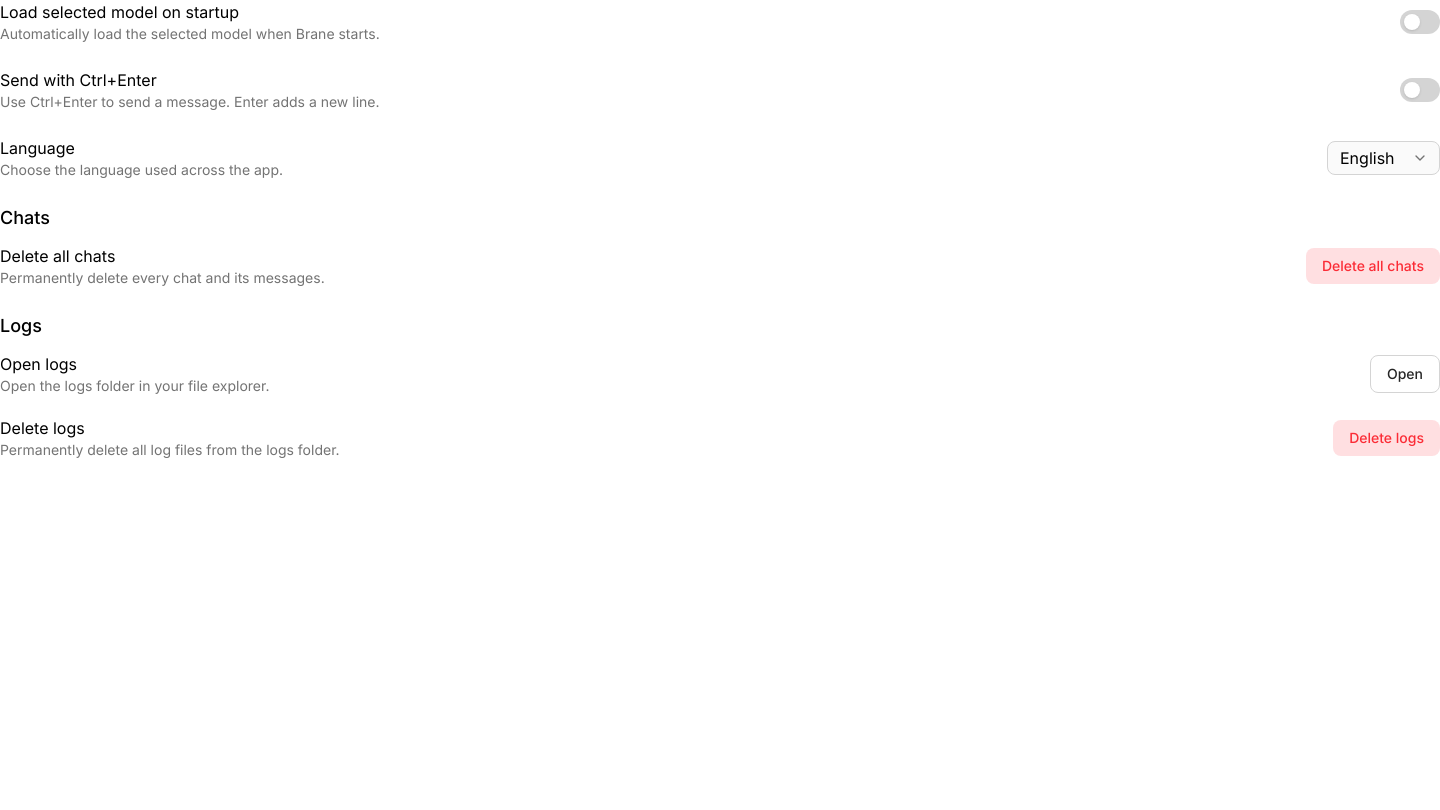
Scenario: GeneralSettings logs › deletes the logs once the deletion is confirmed
Click the button "Delete logs". click: (1387, 438)
box: [1333,420,1439,456]
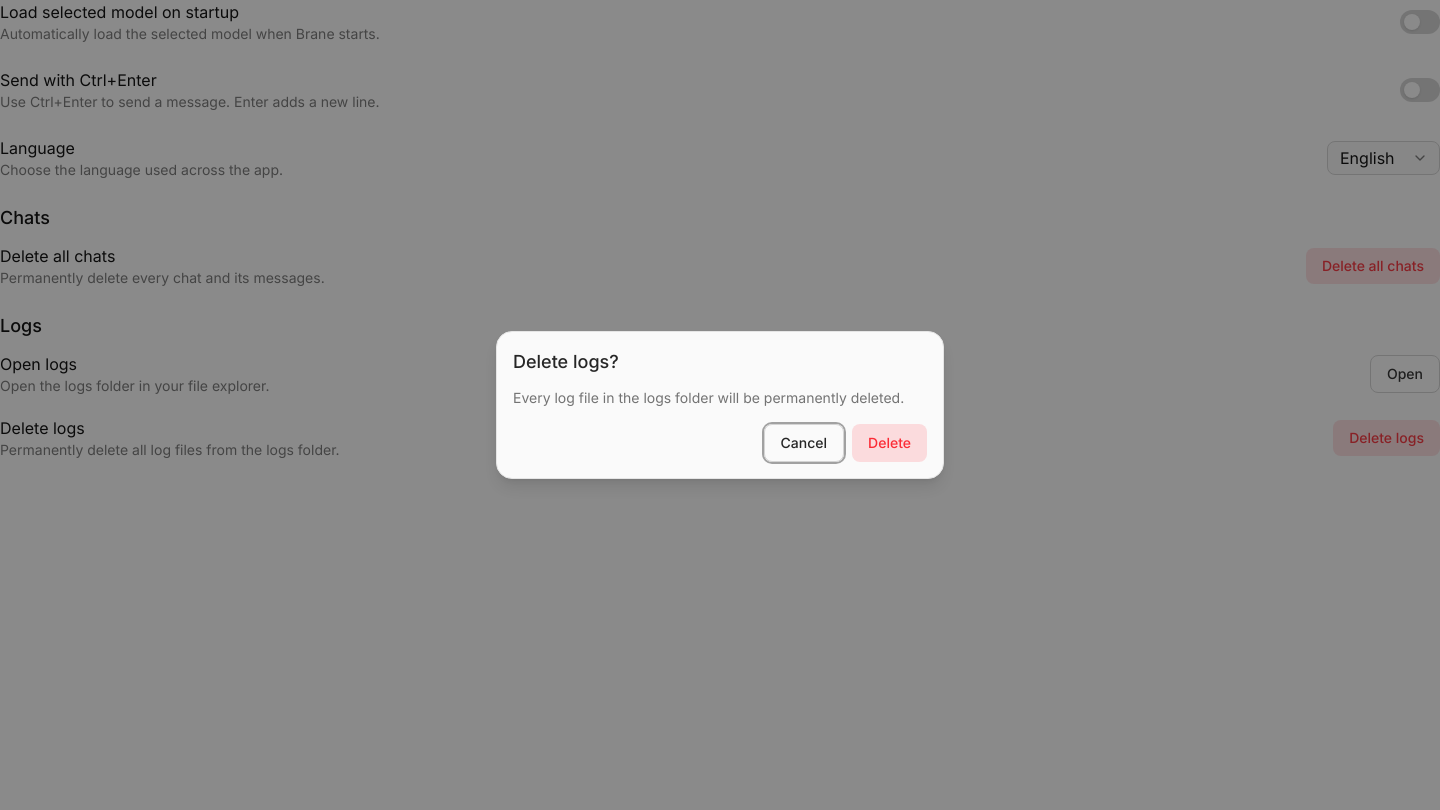
Click the button "Delete". click: (890, 443)
box: [852,424,927,462]
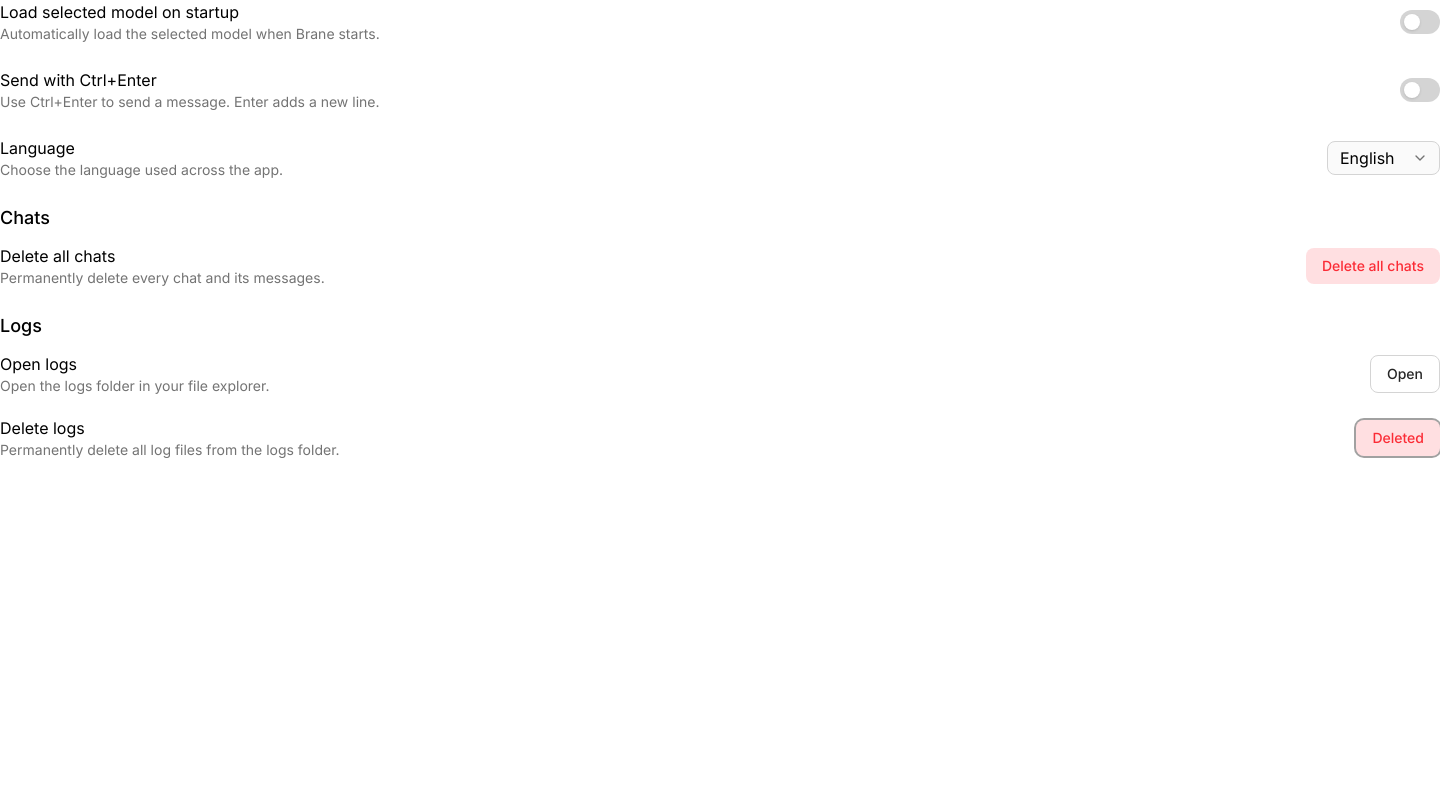
Check: the dialog is gone
